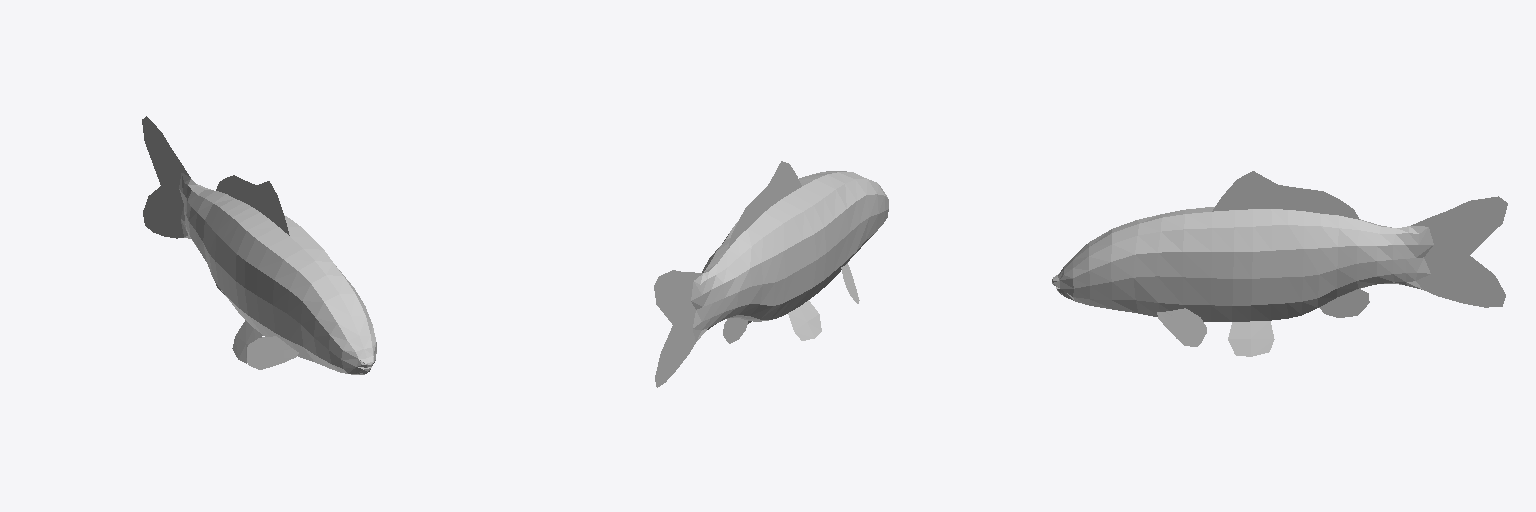
File: Fish1_20191904.obj
3 views of the same model, side by side, from view 1: azimuth 30°, elevation 25°; view 2: azimuth 150°, elevation 25°; view 3: azimuth 270°, elevation 25° (orthographic).
Parts seen in each view (by area): view 1: Cube; view 2: Cube; view 3: Cube.
Part boxes in pixels (x1,y1,x2,y2): Cube: (142, 116, 376, 374); Cube: (654, 161, 888, 387); Cube: (1052, 171, 1507, 356).
Bounding box in the file's own units: 3.5 × 5.86 × 14.21.